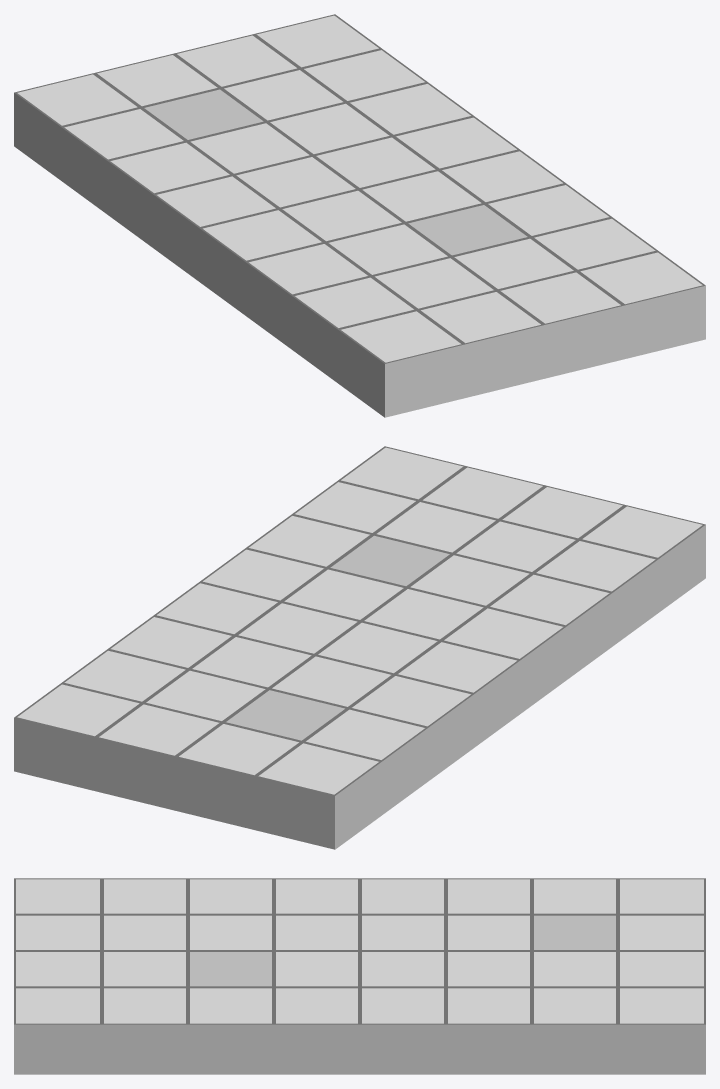
Rendered from Floor2_02.fbx.
3 views of the same model, one above another, from view 1: azimuth 30°, elevation 25°; view 2: azimuth 150°, elevation 25°; view 3: azimuth 270°, elevation 25° (orthographic). The views are drawn at different scales.
Parts seen in each view (by area): view 1: Floor2_02; view 2: Floor2_02; view 3: Floor2_02.
Part boxes in pixels (x1=…): Floor2_02: x1=14, y1=14, x2=705, y2=417; Floor2_02: x1=14, y1=446, x2=705, y2=849; Floor2_02: x1=14, y1=878, x2=705, y2=1074.
Size of the model in its own units: 125 by 20 by 250.
